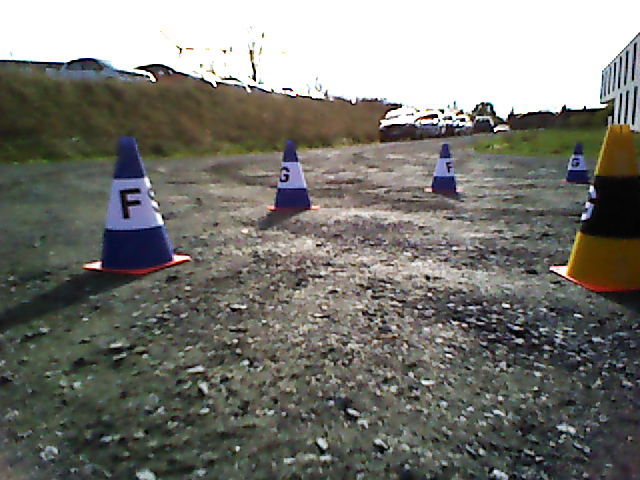bluecone: (103, 137, 170, 266), (275, 140, 309, 206), (433, 144, 456, 189), (567, 143, 588, 181)
yellowcone: (571, 126, 640, 286)
